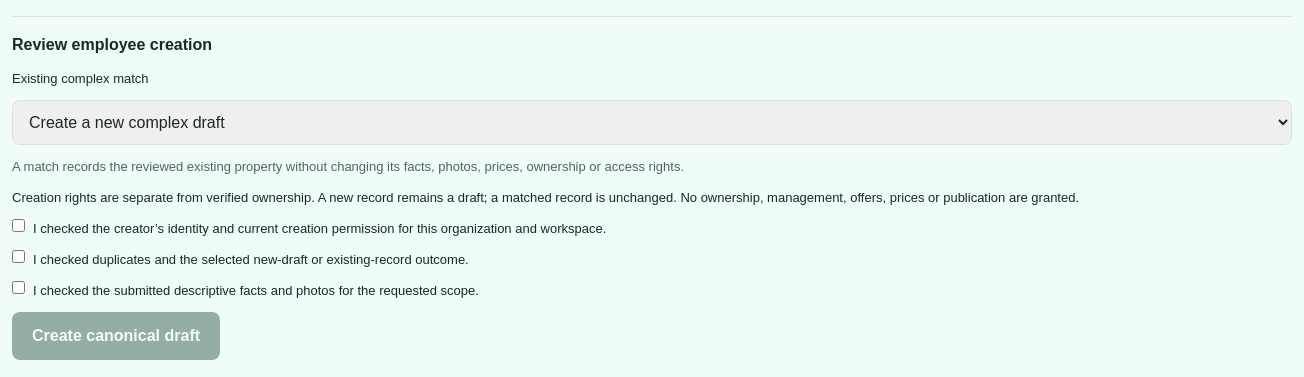
requires duplicate review again after changing the selected complex outcome
The image size is (1304, 377).
Click the checkbox named "I checked the creator’s identity and current creation permission for this organization and workspace." at (18, 226), box left=12, top=219, right=25, bottom=232
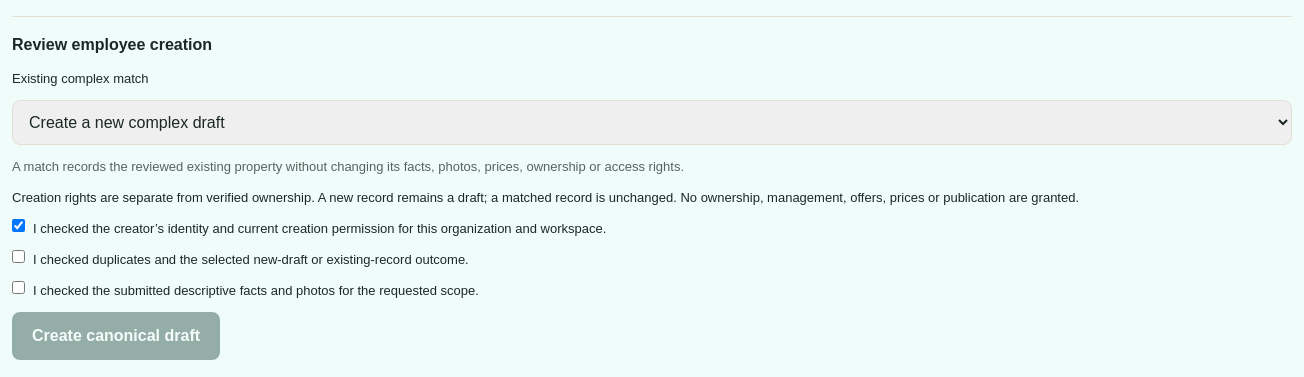
Click the checkbox labelled "I checked duplicates and the selected new-draft or existing-record outcome." at (18, 256), box left=12, top=250, right=25, bottom=263
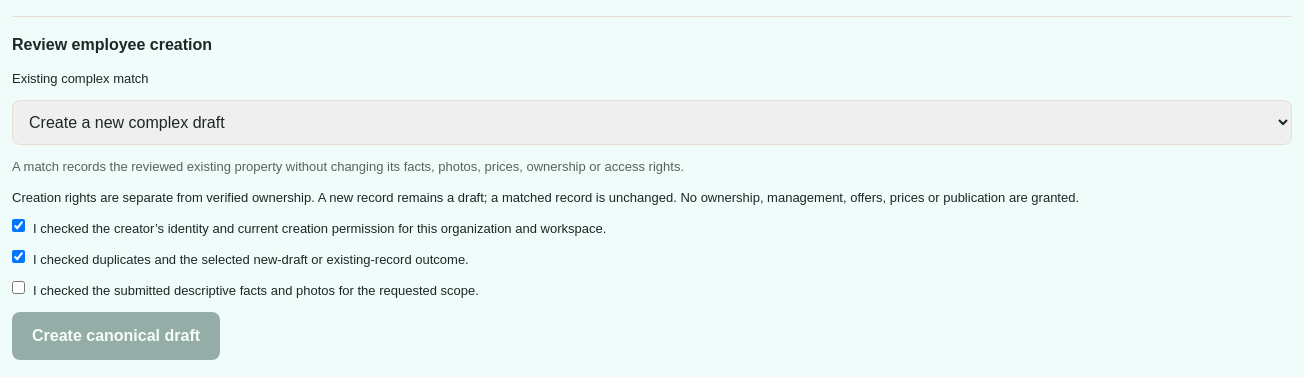
Click the checkbox labelled "I checked the submitted descriptive facts and photos for the requested scope." at (18, 288), box left=12, top=281, right=25, bottom=294
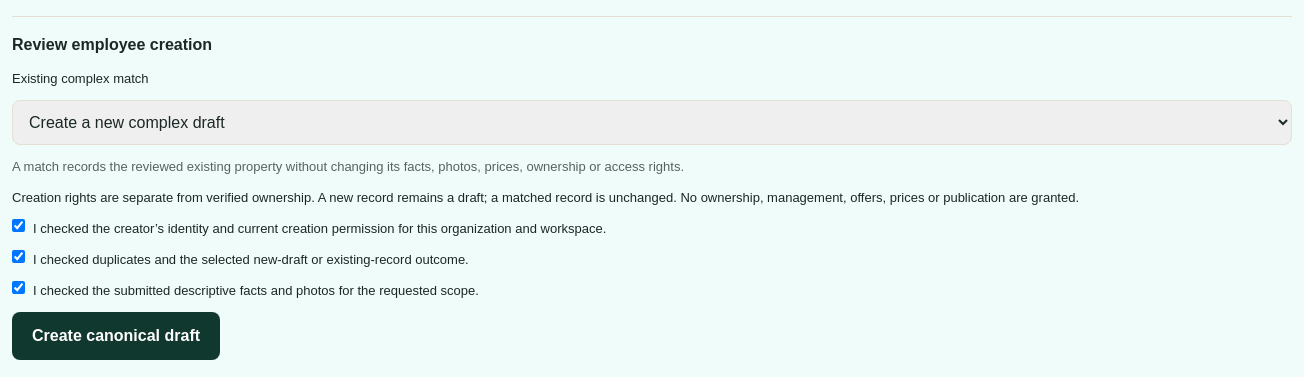
Expected: the button "Create canonical draft" is enabled, left=12, top=312, right=220, bottom=360
Select "Existing complex" in the dropdown labelled "Existing complex match" at (652, 122), box left=12, top=100, right=1292, bottom=145
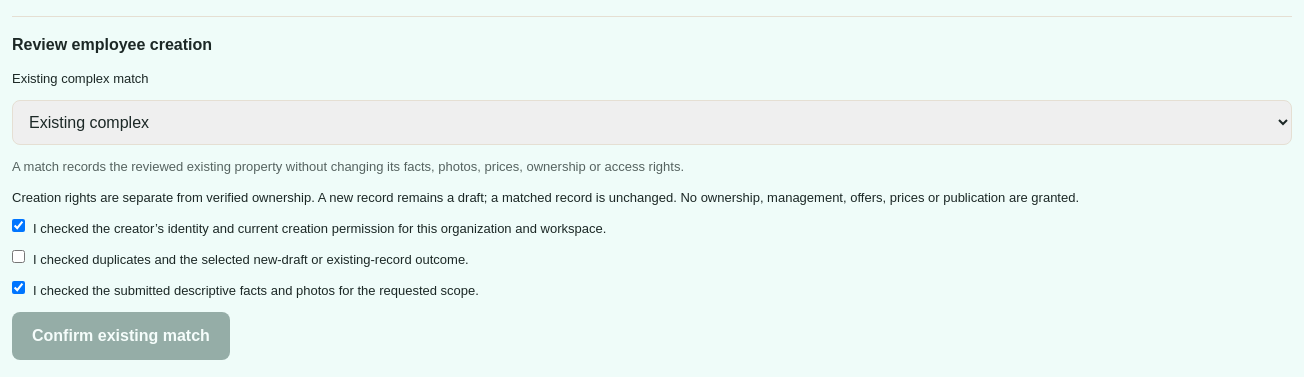
Expected: the checkbox labelled "I checked duplicates and the selected new-draft or existing-record outcome." is not checked, left=12, top=250, right=25, bottom=263
Expected: the button "Confirm existing match" is disabled, left=12, top=312, right=230, bottom=360
